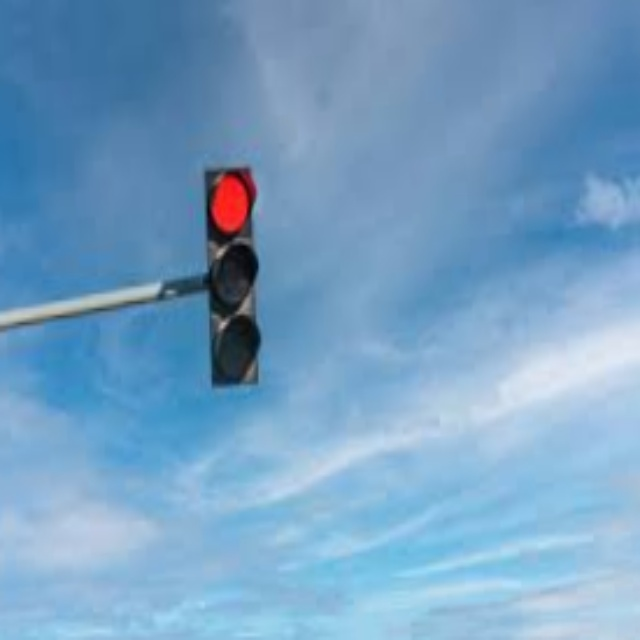red_light: (207, 169, 253, 235)
